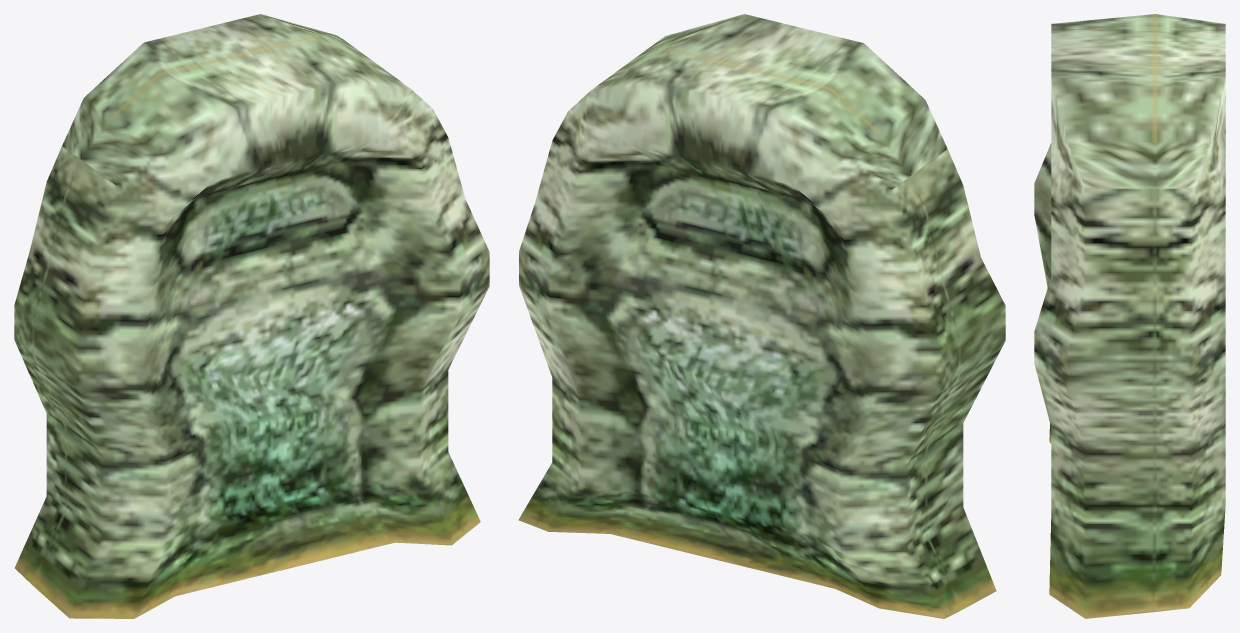
The model's file is a_tomb_4.glb.
3 renders of one model, left to right at view 1: azimuth 30°, elevation 25°; view 2: azimuth 150°, elevation 25°; view 3: azimuth 270°, elevation 25°, orthographic. The views are drawn at different scales.
Visible parts, largest first — view 1: a_tomb_4; view 2: a_tomb_4; view 3: a_tomb_4.
Part boxes in pixels (left/top/right/bottom): a_tomb_4: left=14, top=14, right=489, bottom=618; a_tomb_4: left=518, top=14, right=1005, bottom=618; a_tomb_4: left=1034, top=14, right=1225, bottom=618.
Bounding box in the file's own units: 217 × 245 × 90.
1 material, 1 textured.
